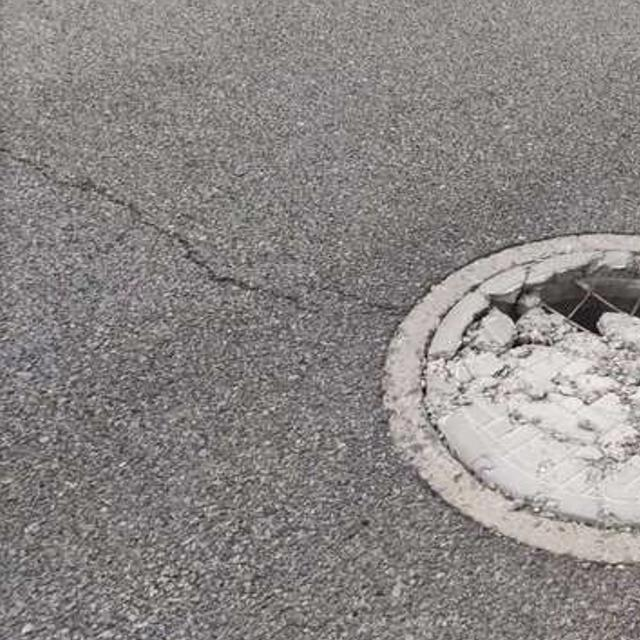broke: (374, 225, 640, 574)
